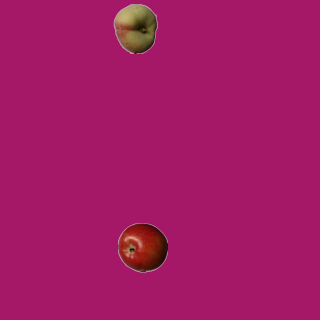Apple Braeburn: (117, 222, 167, 272)
Peach Flat: (110, 3, 160, 53)
